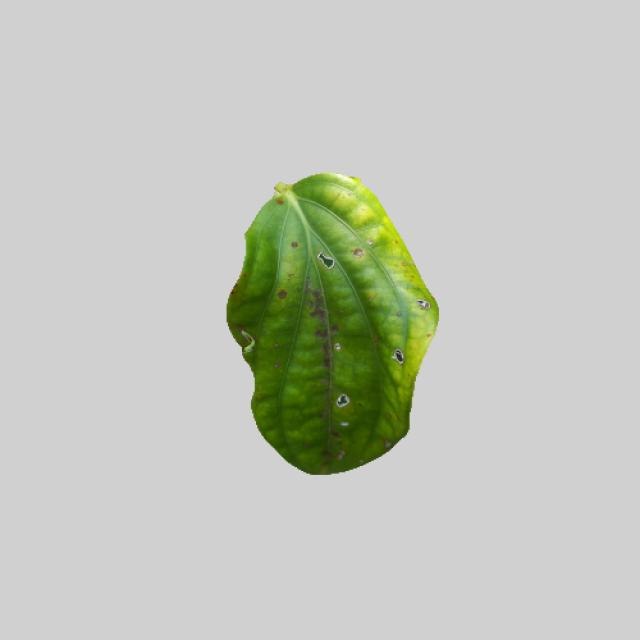yellow-mottle-virus: (215, 166, 442, 472)
